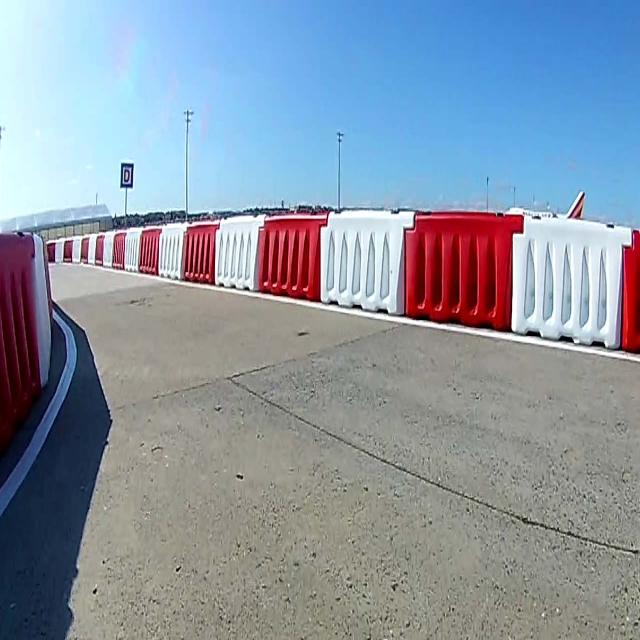durak: (121, 164, 133, 188)
